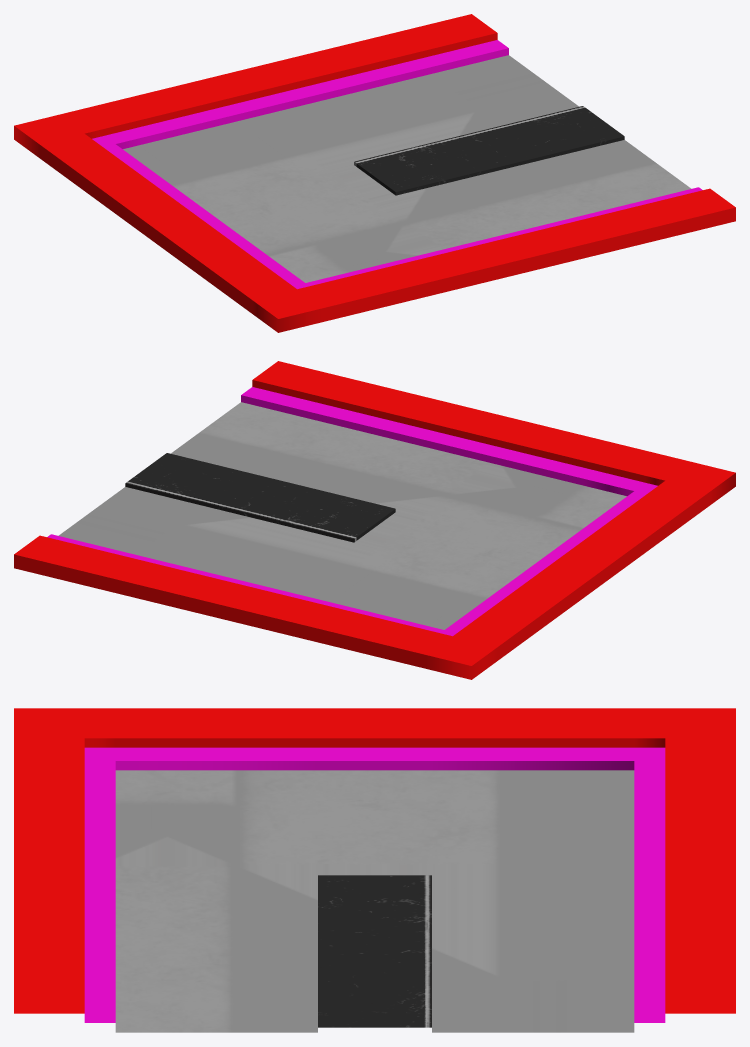
File: Floor-End.fbx
The picture shows the model from 3 angles, top to bottom: view 1: azimuth 30°, elevation 25°; view 2: azimuth 150°, elevation 25°; view 3: azimuth 270°, elevation 25°; orthographic projection. The views are drawn at different scales.
Parts seen in each view (by area): view 1: End; view 2: End; view 3: End.
Boxes of the visible parts, bbox=[...] form: End: bbox=[14, 14, 735, 332]; End: bbox=[14, 361, 735, 679]; End: bbox=[14, 708, 735, 1032].
Size of the model in its own units: 78.74 by 2.28 by 78.74.
4 materials, 2 textured.
